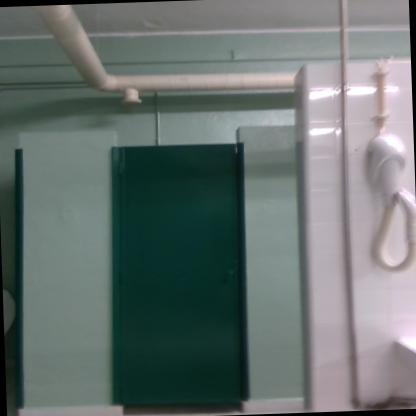closed: (102, 127, 273, 404)
